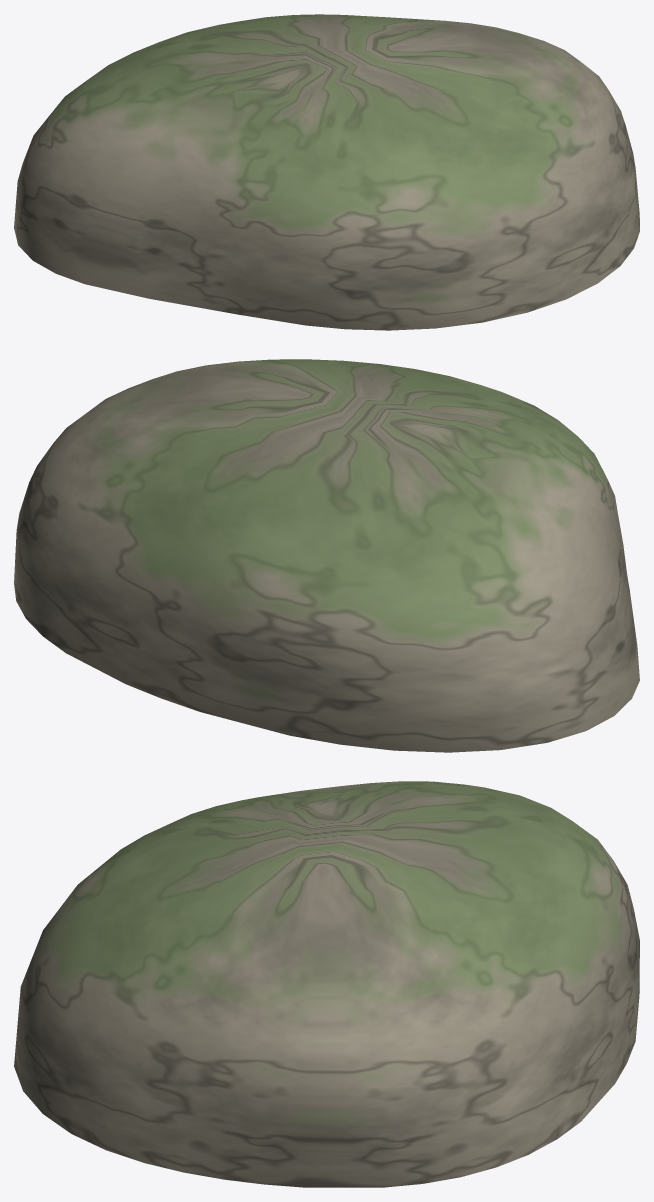
File: turtle-mt-stone.glb
The picture shows the model from 3 angles, top to bottom: view 1: azimuth 30°, elevation 25°; view 2: azimuth 150°, elevation 25°; view 3: azimuth 270°, elevation 25°; orthographic projection. The views are drawn at different scales.
Parts seen in each view (by area): view 1: turtle-prop-stone; view 2: turtle-prop-stone; view 3: turtle-prop-stone.
Boxes of the visible parts, left/top/right/bottom form: turtle-prop-stone: left=14, top=14, right=639, bottom=330; turtle-prop-stone: left=14, top=359, right=639, bottom=752; turtle-prop-stone: left=14, top=781, right=639, bottom=1187.
Size of the model in its own units: 0.0982 by 0.03 by 0.0849.
1 material, 1 textured.
